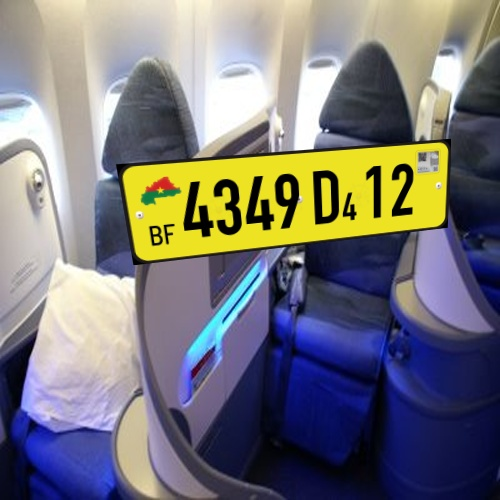plate: (92, 120, 462, 282)
